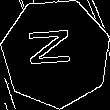N_E: (30, 32, 82, 75)
